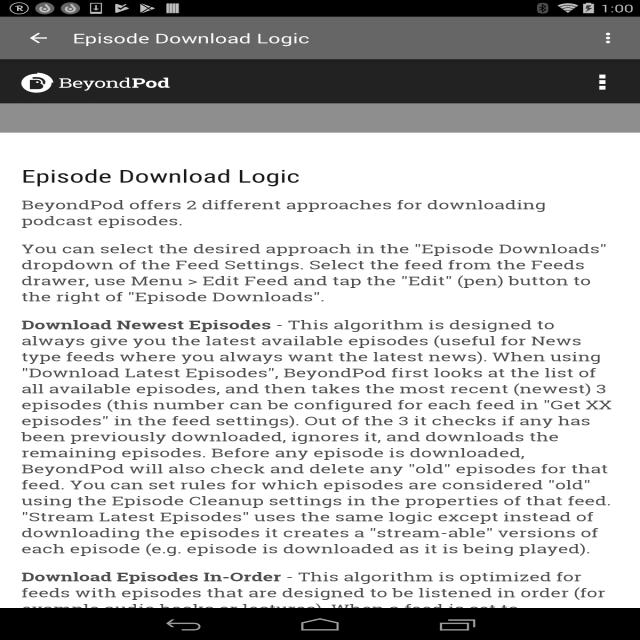ImageButton: (25, 26, 63, 50), (589, 70, 620, 97), (595, 28, 626, 54)
ImageView: (13, 68, 52, 96)
TextView: (18, 317, 610, 556), (14, 239, 600, 300), (19, 194, 556, 228), (17, 164, 307, 185), (72, 28, 316, 47), (59, 74, 187, 94)
